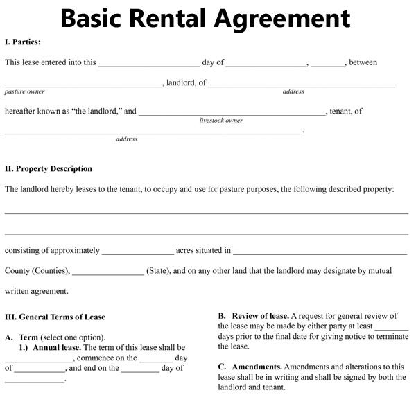textline: (2, 200, 410, 219), (2, 221, 410, 238), (3, 121, 304, 137), (137, 101, 329, 117), (206, 76, 397, 90), (232, 244, 410, 258), (3, 76, 164, 89), (97, 52, 201, 71), (225, 52, 309, 70), (72, 263, 146, 277), (101, 245, 175, 258), (5, 350, 73, 364), (309, 51, 349, 69), (3, 376, 67, 385), (12, 364, 67, 374), (121, 364, 160, 376), (373, 321, 410, 333), (137, 353, 174, 365)
